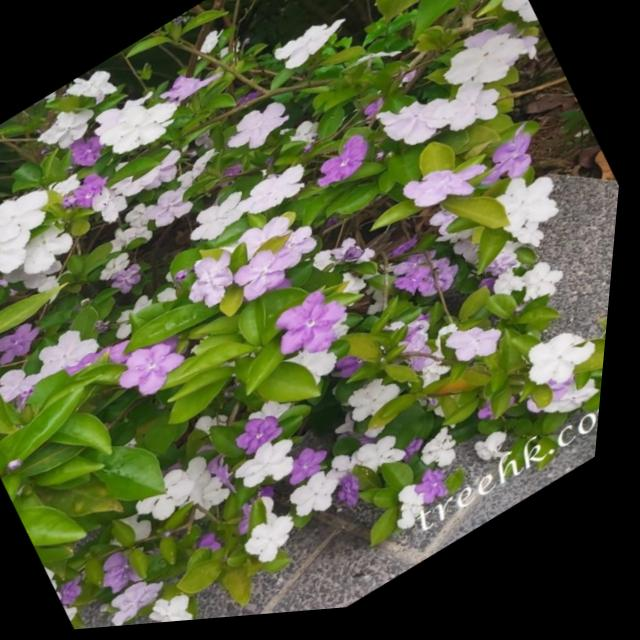Flower: (179, 173, 357, 340), (415, 8, 559, 142), (0, 152, 106, 306), (251, 272, 386, 392), (61, 78, 187, 188), (101, 317, 219, 424), (111, 451, 234, 553), (489, 154, 585, 250), (227, 425, 321, 513), (231, 501, 320, 583), (331, 367, 422, 445), (218, 93, 303, 172), (533, 329, 614, 408), (355, 430, 426, 495), (138, 577, 219, 628), (514, 252, 569, 315)
